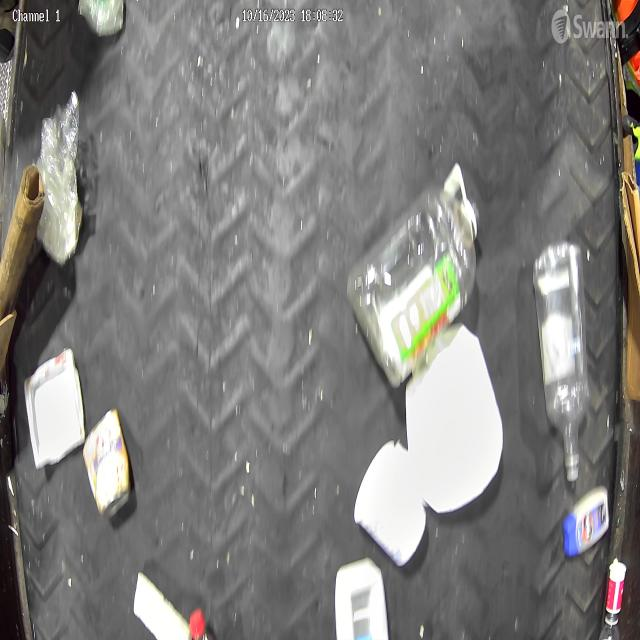can: (78, 414, 134, 518)
plastic_bottle: (536, 235, 591, 480)
